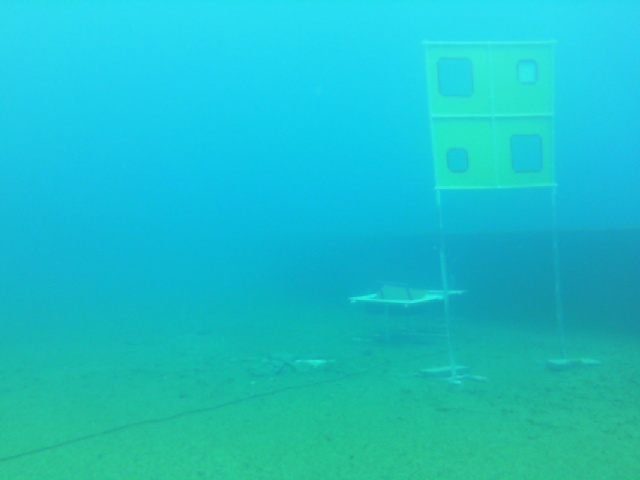torpedo_cover: (516, 57, 541, 86)
torpedo_hole: (506, 131, 547, 176), (436, 58, 478, 101), (447, 145, 473, 172), (518, 56, 538, 86)
torpedo_target: (417, 37, 558, 189)
